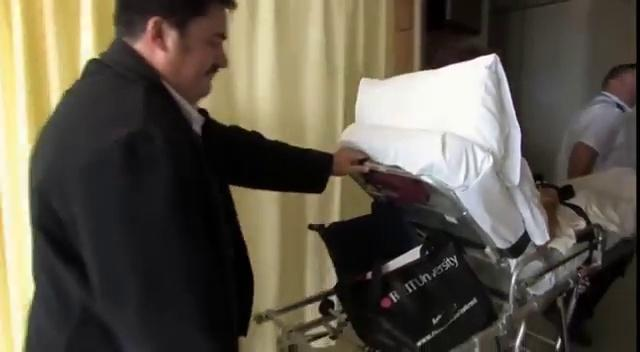others: (23, 0, 372, 350), (547, 62, 635, 173)
patient: (519, 156, 640, 233)
